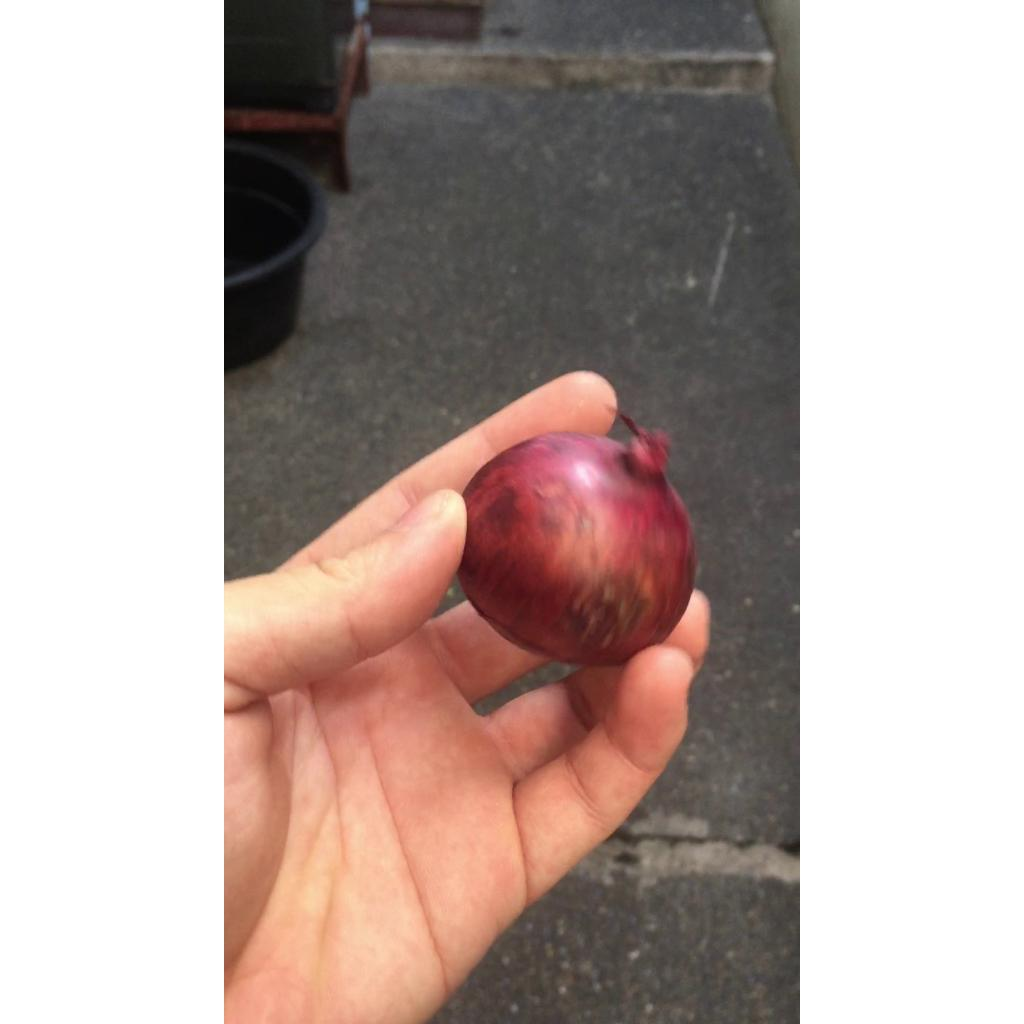Onion: (458, 413, 696, 666)
